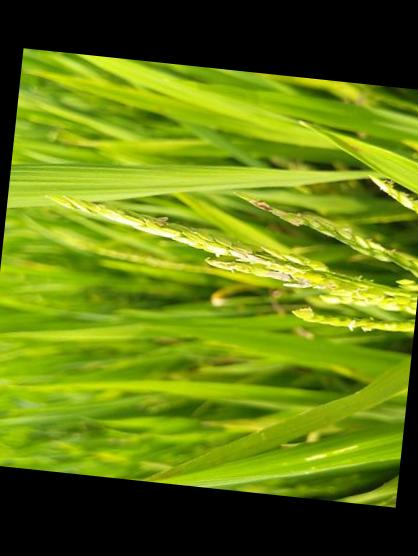Panicle Blight: (244, 198, 301, 225), (265, 270, 315, 289), (228, 251, 263, 263)
